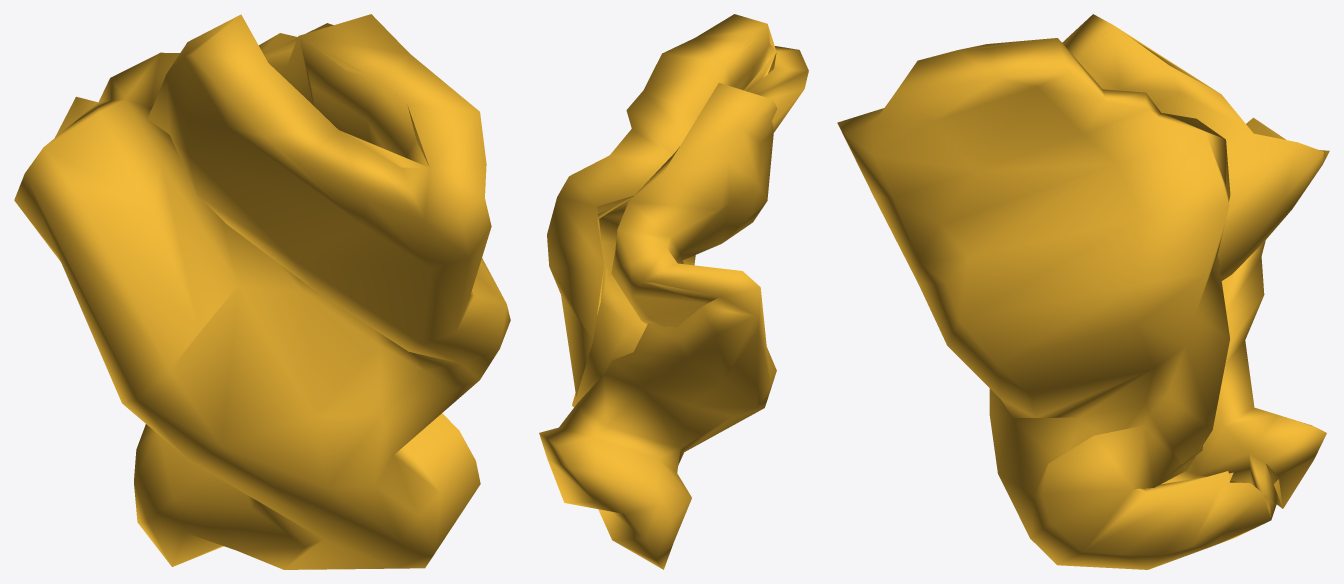
The model's file is nervoso-transverse-occipital-sulcus-l.glb.
3 renders of one model, left to right at view 1: azimuth 30°, elevation 25°; view 2: azimuth 150°, elevation 25°; view 3: azimuth 270°, elevation 25°, orthographic. The views are drawn at different scales.
Visible parts, largest first — view 1: Transverse occipital sulcus.l; view 2: Transverse occipital sulcus.l; view 3: Transverse occipital sulcus.l.
Boxes of the visible parts, x1,y1,x2,y2 form: Transverse occipital sulcus.l: (14,14,510,569); Transverse occipital sulcus.l: (539,14,808,569); Transverse occipital sulcus.l: (837,14,1329,569).
Bounding box in the file's own units: 0.0172 × 0.0288 × 0.0252.
